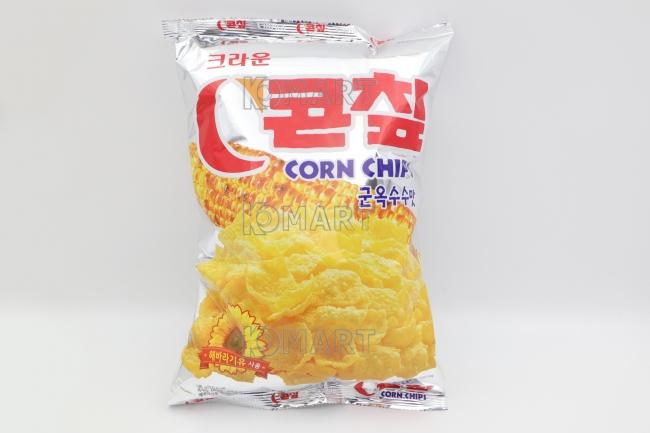snack: (161, 17, 455, 412)
